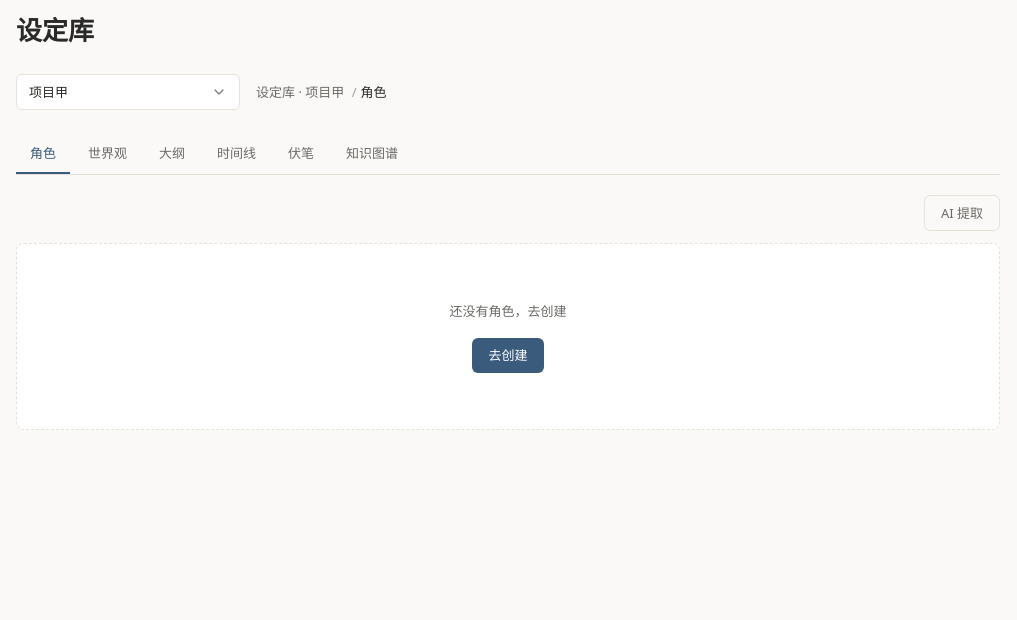
Test: 设定库页 — F43 P4 时间线双序 + 两级检查（spec §5.16-5.17/§9.6 T1-T8） › T2 世界序切换：点 tl-view-world → 列表按 time_value 升序 + 零额外请求（未定事件落待确认区，#1581）
Click the tab "时间线".
click(236, 154)  # box x1=203 y1=134 x2=270 y2=174
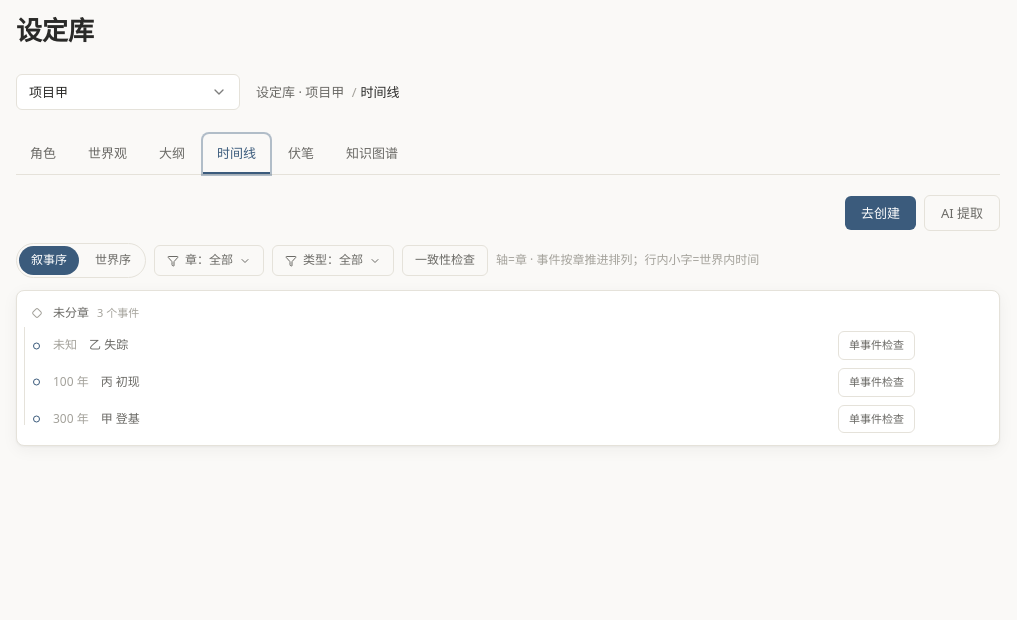
Check: the number of list items is 3, box x1=33 y1=331 x2=983 y2=360; x1=33 y1=368 x2=983 y2=396; x1=33 y1=404 x2=983 y2=433
Click the button with test id "tl-view-world".
click(113, 261)  # box x1=83 y1=246 x2=143 y2=275
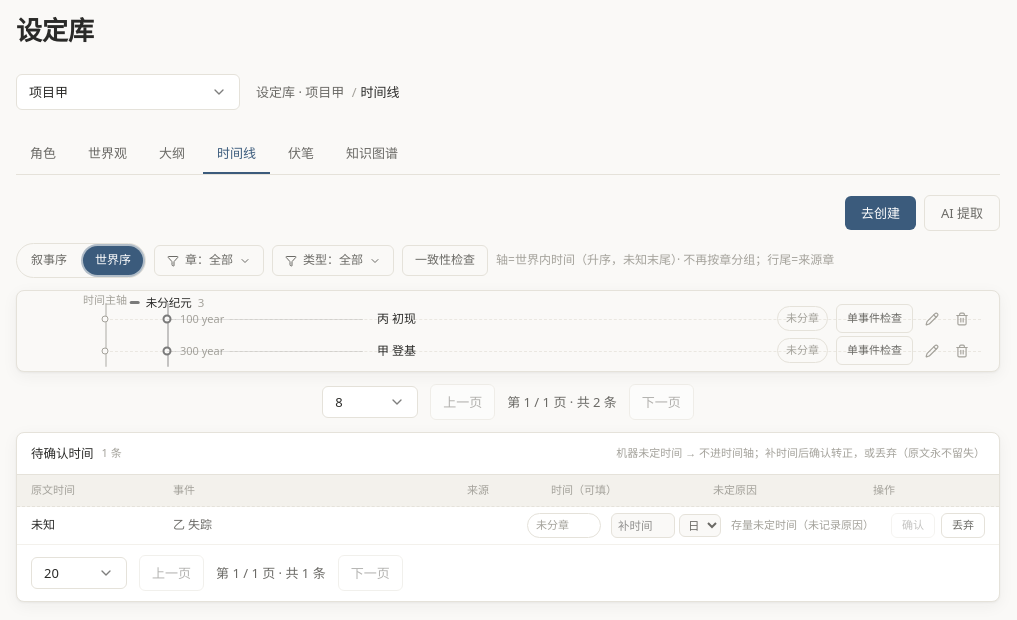
Check: the element with test id "tl-pend-row-ev-evB" is shown, box x1=17 y1=507 x2=999 y2=545
